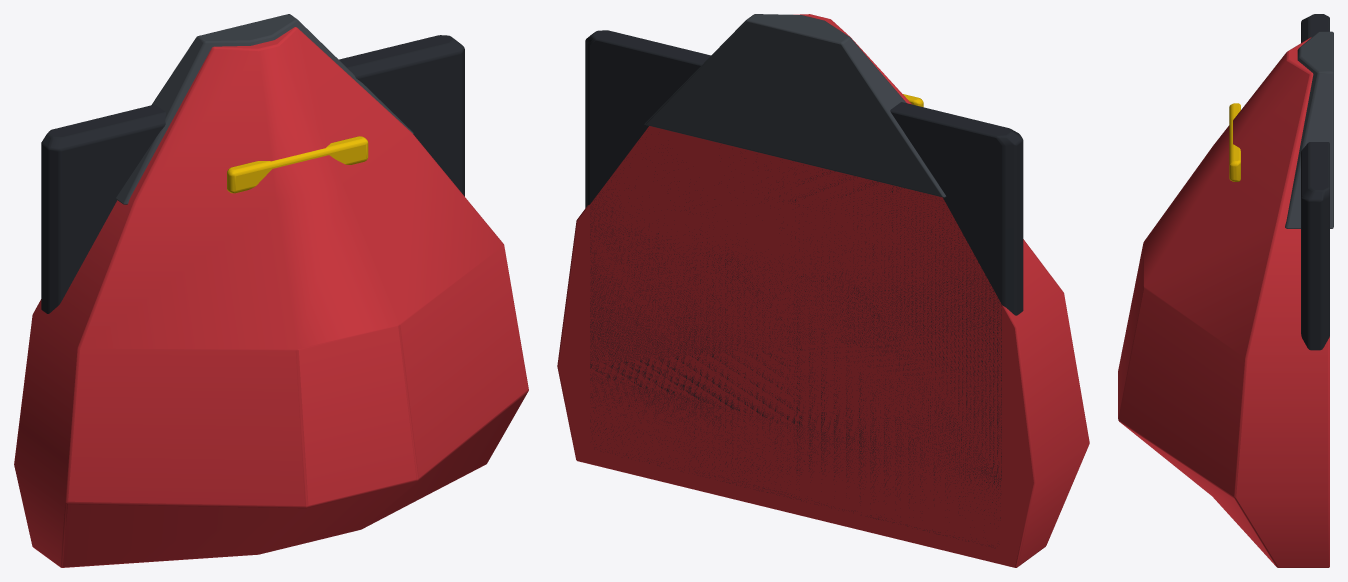
Rendered from FootFront_Set08_Goliath.fbx.
3 renders of one model, left to right at view 1: azimuth 30°, elevation 25°; view 2: azimuth 150°, elevation 25°; view 3: azimuth 270°, elevation 25°, orthographic. The views are drawn at different scales.
Visible parts, largest first — view 1: FootFront_Set08_Goliath; view 2: FootFront_Set08_Goliath; view 3: FootFront_Set08_Goliath.
Boxes of the visible parts, x1,y1,x2,y2 form: FootFront_Set08_Goliath: (14,14,528,567); FootFront_Set08_Goliath: (557,14,1089,567); FootFront_Set08_Goliath: (1118,14,1333,567).
Size of the model in its own units: 0.5 by 0.484 by 0.2237.
